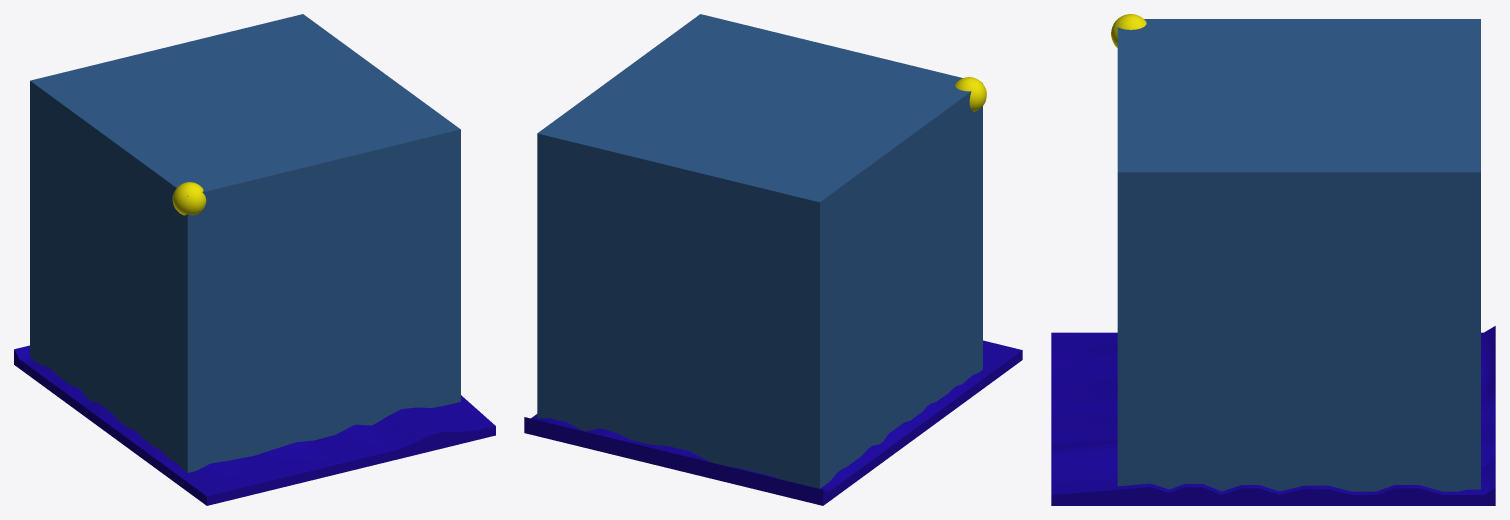
File: Environment2.fbx
3 views of the same model, side by side, from view 1: azimuth 30°, elevation 25°; view 2: azimuth 150°, elevation 25°; view 3: azimuth 270°, elevation 25° (orthographic). The views are drawn at different scales.
Parts seen in each view (by area): view 1: pasted__pCube1, pasted__pCube2, Enviroment_Desert; view 2: pasted__pCube1, pasted__pCube2, Enviroment_Desert; view 3: pasted__pCube1, pasted__pCube2, Enviroment_Desert.
Boxes of the visible parts, left/top/right/bottom form: pasted__pCube1: left=30, top=14, right=460, bottom=472; pasted__pCube2: left=14, top=345, right=495, bottom=505; Enviroment_Desert: left=172, top=182, right=206, bottom=215; pasted__pCube1: left=537, top=14, right=982, bottom=488; pasted__pCube2: left=524, top=340, right=1022, bottom=505; Enviroment_Desert: left=955, top=77, right=986, bottom=111; pasted__pCube1: left=1117, top=19, right=1480, bottom=491; pasted__pCube2: left=1051, top=326, right=1495, bottom=505; Enviroment_Desert: left=1111, top=14, right=1146, bottom=47.
Bounding box in the file's own units: 19.41 × 18.8 × 22.44.
